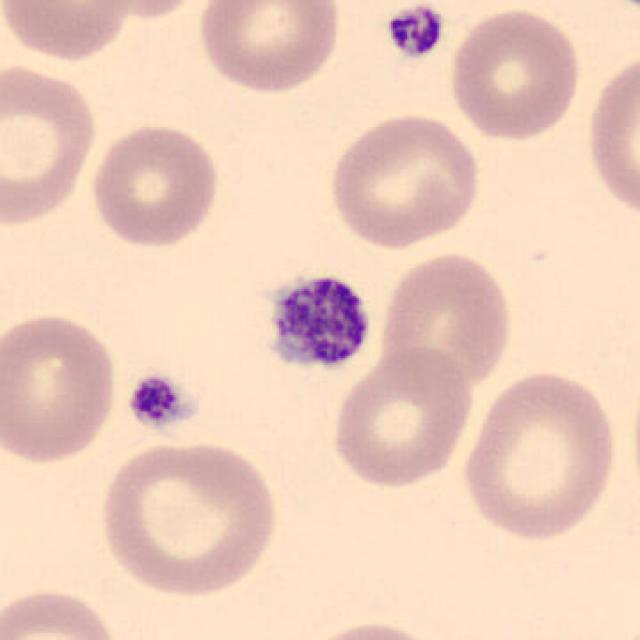Platelets: (259, 268, 377, 377), (123, 370, 199, 434), (382, 1, 448, 62)
RBC: (92, 436, 282, 600), (457, 365, 622, 545), (324, 107, 484, 250), (327, 345, 478, 492), (375, 247, 517, 395), (444, 4, 586, 144), (0, 307, 123, 467), (85, 118, 224, 252), (0, 58, 100, 231), (194, 0, 345, 97), (582, 44, 638, 226), (0, 0, 135, 63), (0, 583, 126, 640), (294, 615, 454, 640), (76, 0, 212, 21), (576, 0, 640, 19)
